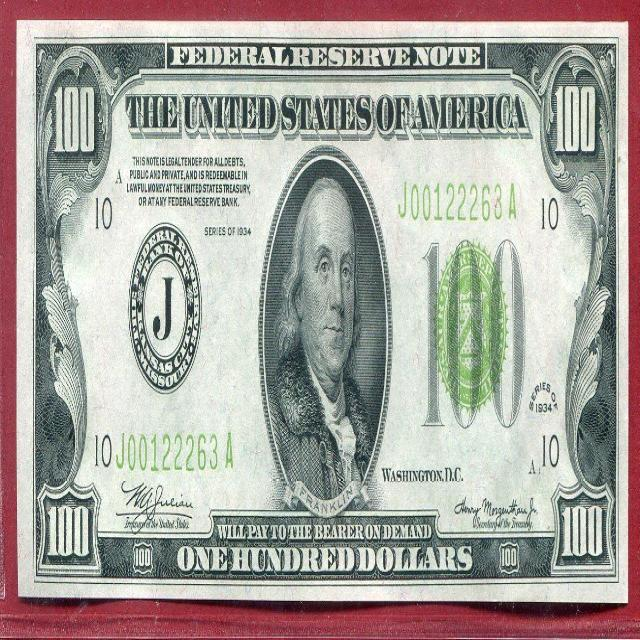100-Front: (18, 21, 628, 604)
